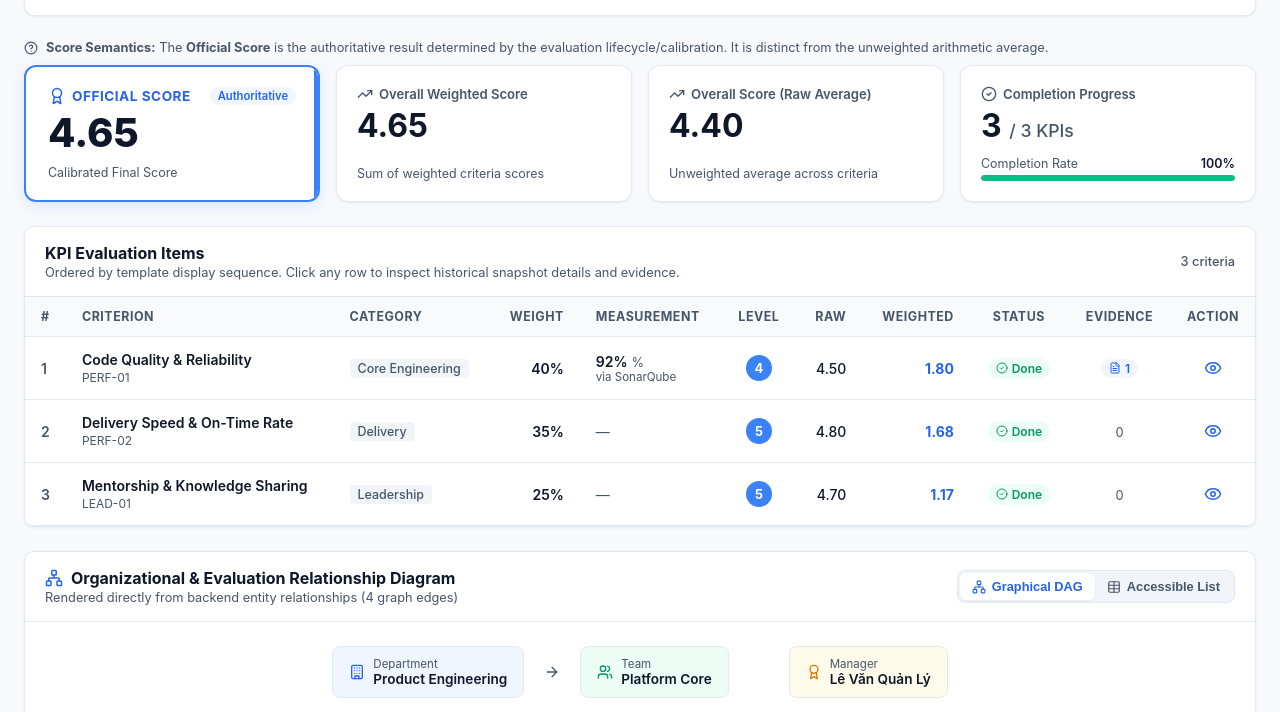
Test case: KpiSummaryDashboardPage › TC-FE-04: Opens KPI detail slide-out drawer on row click and fetches detail
(page scrolled)
Click on row to open drill-down panel
Click the text "Code Quality & Reliability" at (167, 360), box [82, 351, 252, 368]
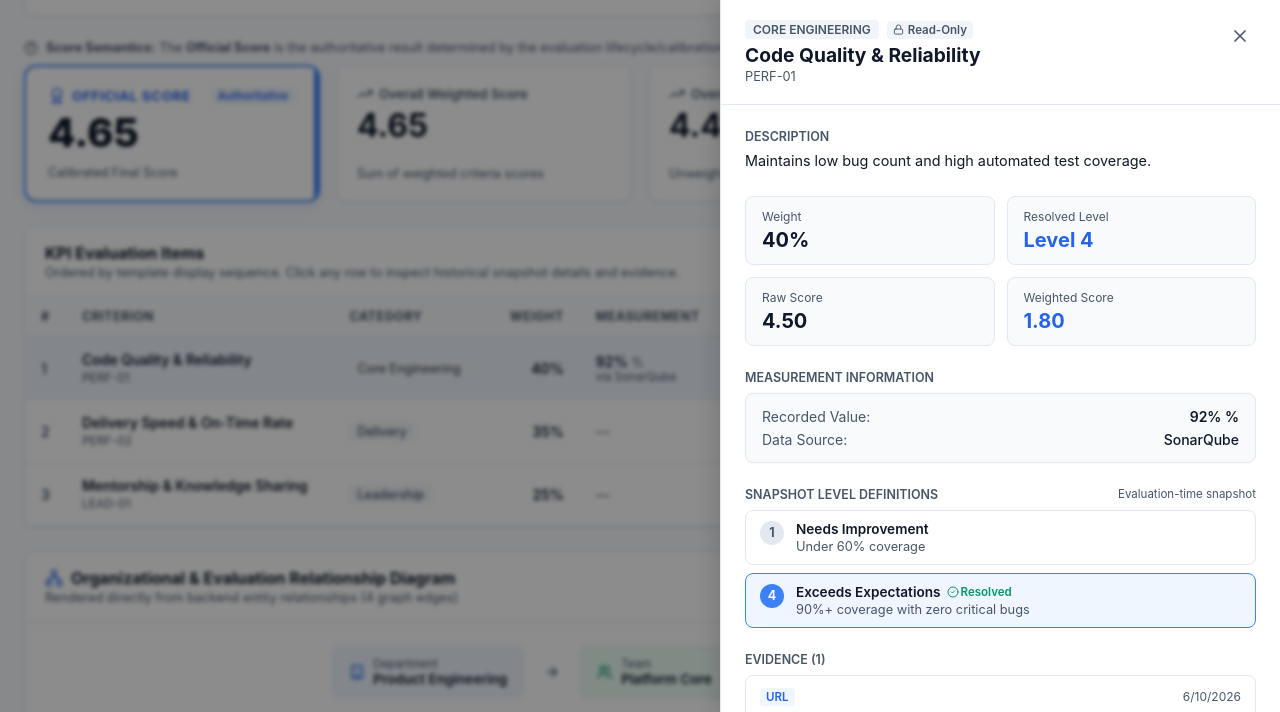
Now the text "Measurement Information" is shown, box [745, 370, 934, 385]
Now the text "Exceeds Expectations" is shown, box [796, 584, 940, 600]
